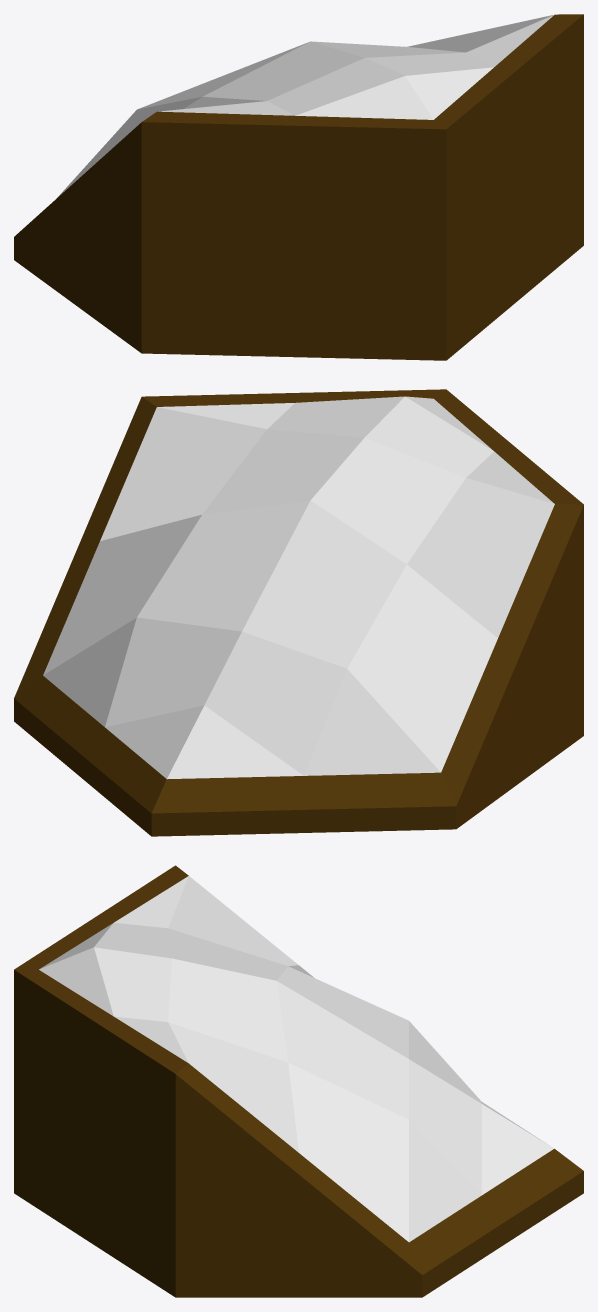
The model's file is harvester.fbx.
3 renders of one model, top to bottom at view 1: azimuth 30°, elevation 25°; view 2: azimuth 150°, elevation 25°; view 3: azimuth 270°, elevation 25°, orthographic. The views are drawn at different scales.
Parts seen in each view (by area): view 1: Harvester Base; view 2: Harvester Base; view 3: Harvester Base.
Boxes of the visible parts, bbox=[...] form: Harvester Base: bbox=[14, 14, 583, 360]; Harvester Base: bbox=[14, 389, 583, 836]; Harvester Base: bbox=[14, 865, 583, 1297].
Bounding box in the file's own units: 200 × 110 × 231.
